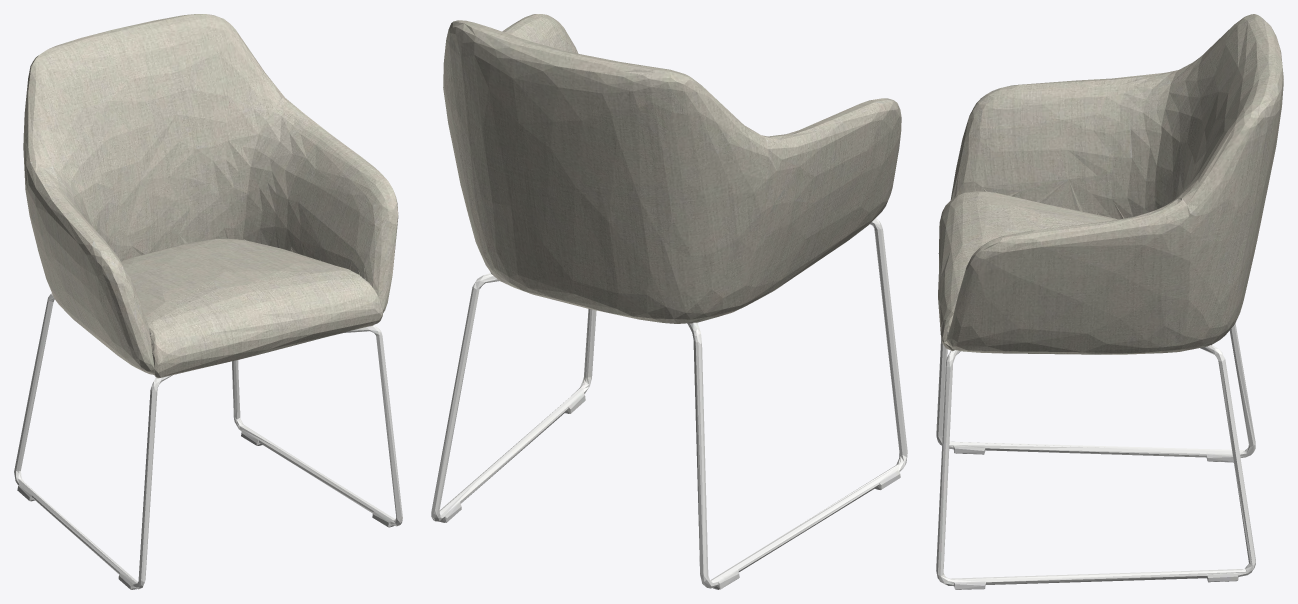
3 views of the same model, side by side, from view 1: azimuth 30°, elevation 25°; view 2: azimuth 150°, elevation 25°; view 3: azimuth 270°, elevation 25° (orthographic). The views are drawn at different scales.
Parts seen in each view (by area): view 1: ProcessedGeometry; view 2: ProcessedGeometry; view 3: ProcessedGeometry.
Boxes of the visible parts, bbox=[...] form: ProcessedGeometry: bbox=[14, 14, 402, 589]; ProcessedGeometry: bbox=[431, 14, 907, 589]; ProcessedGeometry: bbox=[936, 14, 1283, 589].
Bounding box in the file's own units: 0.6 × 0.82 × 0.56.
1 material, 1 textured.
